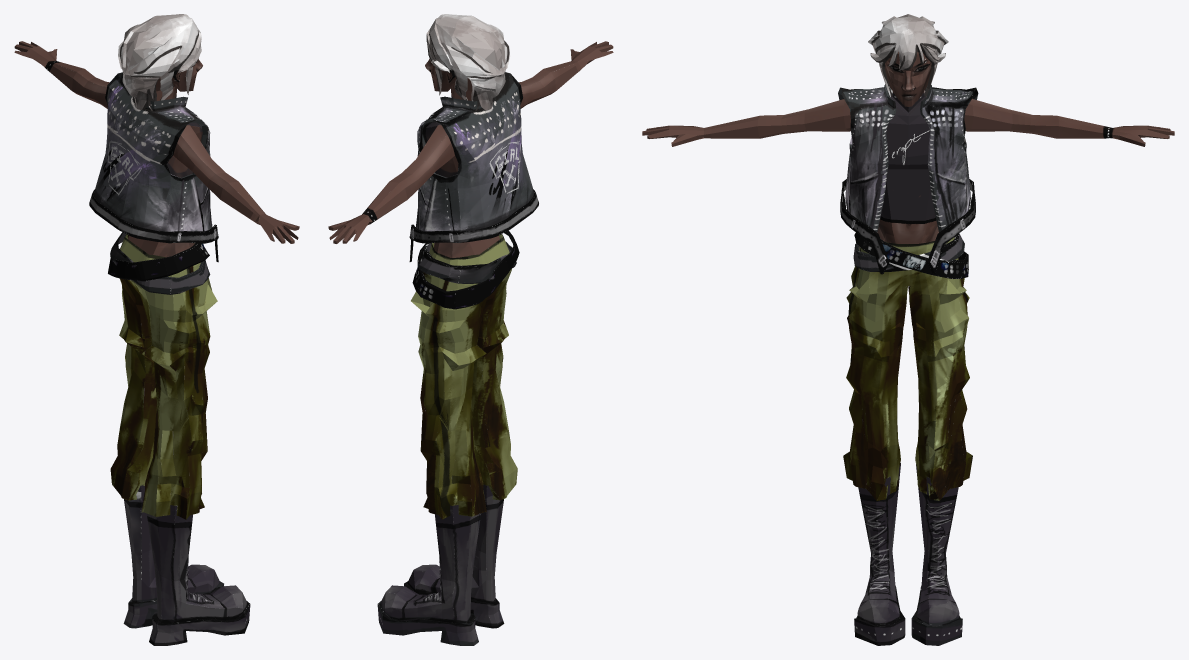
The model's file is body.obj.
3 views of the same model, side by side, from view 1: azimuth 30°, elevation 25°; view 2: azimuth 150°, elevation 25°; view 3: azimuth 270°, elevation 25° (orthographic). The views are drawn at different scales.
Parts seen in each view (by area): view 1: trousers_lambert8SG, BSurfaceMeshFBXASC046002_lambert3SG, boots_lambert9SG, body_lambert4SG, hair_lambert2SG, belt2_lambert7SG, BSurfaceMeshFBXASC046003_lambert5SG, belt1_lambert6SG; view 2: trousers_lambert8SG, BSurfaceMeshFBXASC046002_lambert3SG, boots_lambert9SG, body_lambert4SG, hair_lambert2SG, belt2_lambert7SG, BSurfaceMeshFBXASC046003_lambert5SG, belt1_lambert6SG; view 3: trousers_lambert8SG, body_lambert4SG, BSurfaceMeshFBXASC046002_lambert3SG, boots_lambert9SG, hair_lambert2SG, BSurfaceMeshFBXASC046003_lambert5SG, belt2_lambert7SG, belt1_lambert6SG.
Part boxes in pixels (x1=…): trousers_lambert8SG: x1=110, y1=234, x2=217, y2=519; BSurfaceMeshFBXASC046002_lambert3SG: x1=94, y1=72, x2=212, y2=231; boots_lambert9SG: x1=123, y1=485, x2=250, y2=645; body_lambert4SG: x1=14, y1=41, x2=299, y2=257; hair_lambert2SG: x1=118, y1=14, x2=201, y2=110; belt2_lambert7SG: x1=108, y1=243, x2=209, y2=281; BSurfaceMeshFBXASC046003_lambert5SG: x1=89, y1=189, x2=218, y2=262; belt1_lambert6SG: x1=110, y1=232, x2=210, y2=294; trousers_lambert8SG: x1=411, y1=234, x2=517, y2=519; BSurfaceMeshFBXASC046002_lambert3SG: x1=416, y1=72, x2=533, y2=231; boots_lambert9SG: x1=377, y1=484, x2=504, y2=645; body_lambert4SG: x1=328, y1=41, x2=613, y2=257; hair_lambert2SG: x1=426, y1=14, x2=510, y2=110; belt2_lambert7SG: x1=412, y1=230, x2=519, y2=309; BSurfaceMeshFBXASC046003_lambert5SG: x1=409, y1=189, x2=538, y2=261; belt1_lambert6SG: x1=418, y1=242, x2=516, y2=283; trousers_lambert8SG: x1=843, y1=237, x2=972, y2=500; body_lambert4SG: x1=642, y1=51, x2=1174, y2=243; BSurfaceMeshFBXASC046002_lambert3SG: x1=838, y1=84, x2=978, y2=232; boots_lambert9SG: x1=854, y1=463, x2=962, y2=645; hair_lambert2SG: x1=868, y1=14, x2=948, y2=96; BSurfaceMeshFBXASC046003_lambert5SG: x1=840, y1=179, x2=975, y2=274; belt2_lambert7SG: x1=854, y1=232, x2=968, y2=278; belt1_lambert6SG: x1=853, y1=233, x2=964, y2=272.
Bounding box in the file's own units: 206 × 943 × 764.
Materials: 8 (8 with a texture image).
